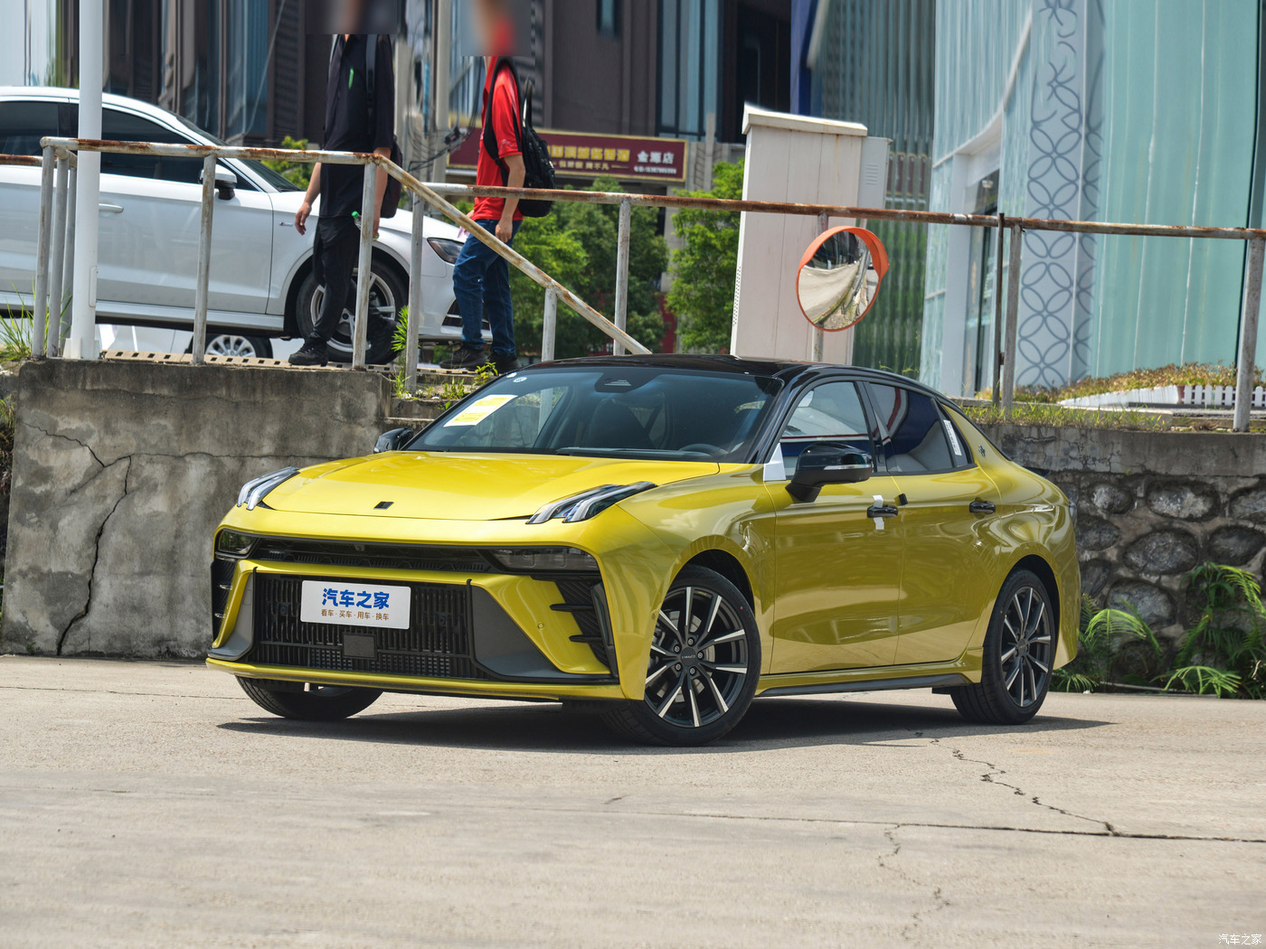LINK&CO: (373, 502, 393, 509)
